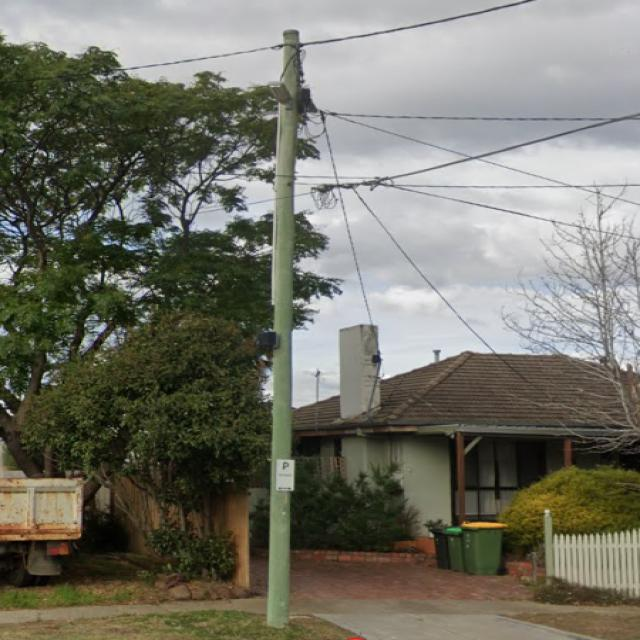streetlight: (268, 82, 291, 105)
timber-pole: (266, 30, 303, 630)
top mount suitable pole: (266, 29, 313, 628)
